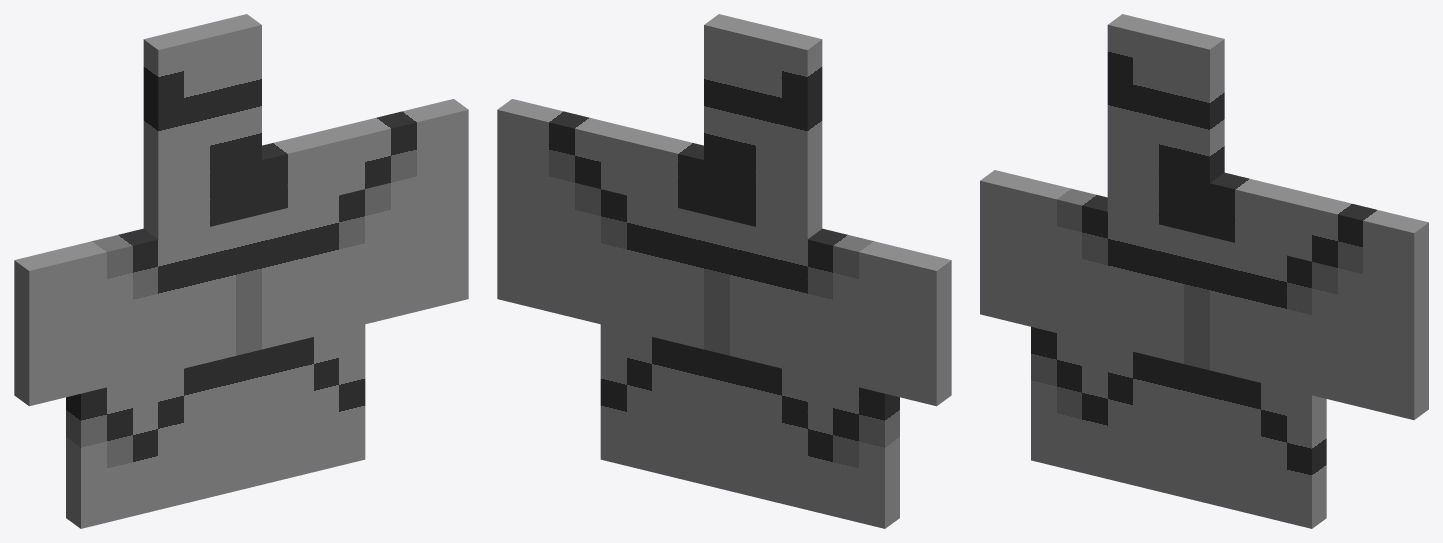
File: ICON_BRK_Russian_Dance.fbx
The picture shows the model from 3 angles, left to right: view 1: azimuth 30°, elevation 25°; view 2: azimuth 150°, elevation 25°; view 3: azimuth 330°, elevation 25°; orthographic projection.
Visible parts, largest first — view 1: ICON_BRK_Russian_Dance; view 2: ICON_BRK_Russian_Dance; view 3: ICON_BRK_Russian_Dance.
Part boxes in pixels (x1=…): ICON_BRK_Russian_Dance: x1=14, y1=14, x2=468, y2=528; ICON_BRK_Russian_Dance: x1=497, y1=14, x2=951, y2=528; ICON_BRK_Russian_Dance: x1=980, y1=14, x2=1428, y2=528.
Bounding box in the file's own units: 17 × 17 × 1.
1 material, 1 textured.
